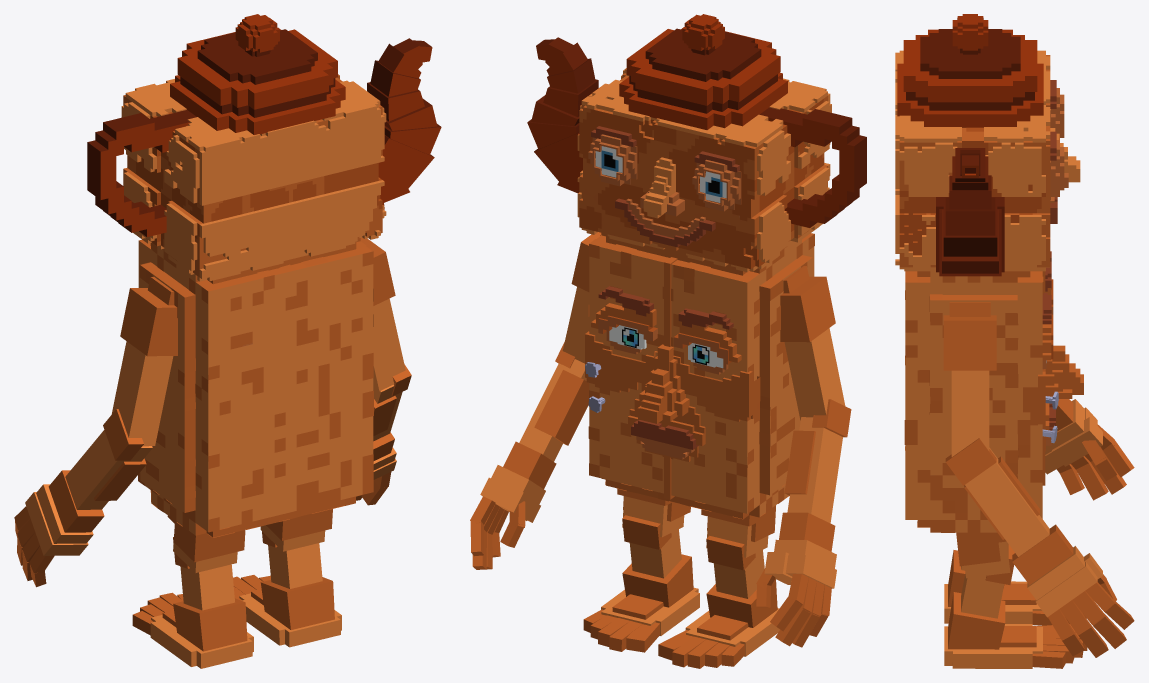
The model's file is LaScretCombina.fbx.
3 views of the same model, side by side, from view 1: azimuth 30°, elevation 25°; view 2: azimuth 150°, elevation 25°; view 3: azimuth 270°, elevation 25° (orthographic). The views are drawn at different scales.
Parts seen in each view (by area): view 1: w; view 2: w; view 3: w.
Boxes of the visible parts, bbox=[...] form: w: bbox=[14, 14, 441, 668]; w: bbox=[470, 14, 866, 668]; w: bbox=[895, 14, 1134, 668].
Bounding box in the file's own units: 563 × 944 × 334.
